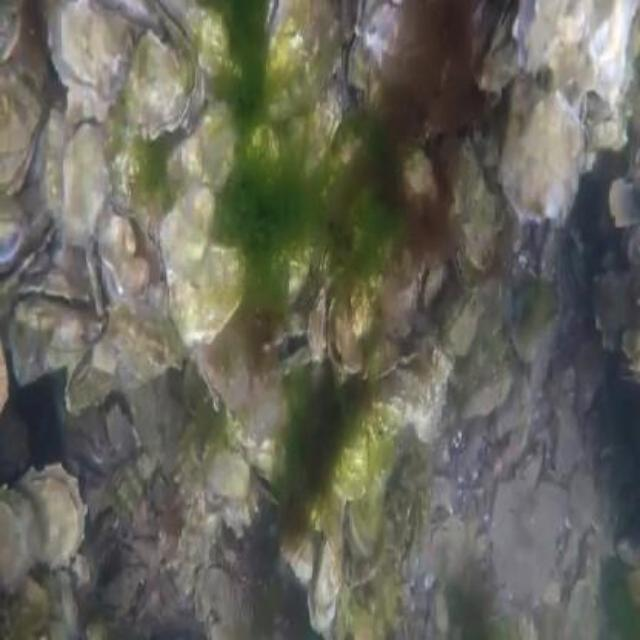Oyster-Closed: (514, 0, 638, 100), (501, 75, 582, 223), (72, 311, 183, 409), (265, 0, 340, 127), (0, 5, 45, 198), (51, 0, 130, 104), (174, 245, 247, 350), (128, 31, 198, 138), (343, 0, 418, 99), (169, 107, 238, 202), (61, 119, 112, 246), (347, 431, 397, 549), (158, 181, 216, 282), (329, 394, 381, 501), (0, 486, 42, 590), (308, 517, 345, 634), (514, 281, 562, 366), (305, 79, 342, 176), (461, 364, 510, 421), (443, 289, 482, 357), (205, 443, 249, 497), (307, 287, 327, 361)
Oyster-Open: (8, 269, 91, 386), (14, 464, 89, 572), (94, 208, 162, 305), (264, 312, 311, 384), (145, 0, 205, 54), (328, 289, 362, 382), (454, 220, 494, 292), (418, 245, 450, 312), (251, 461, 291, 509)
